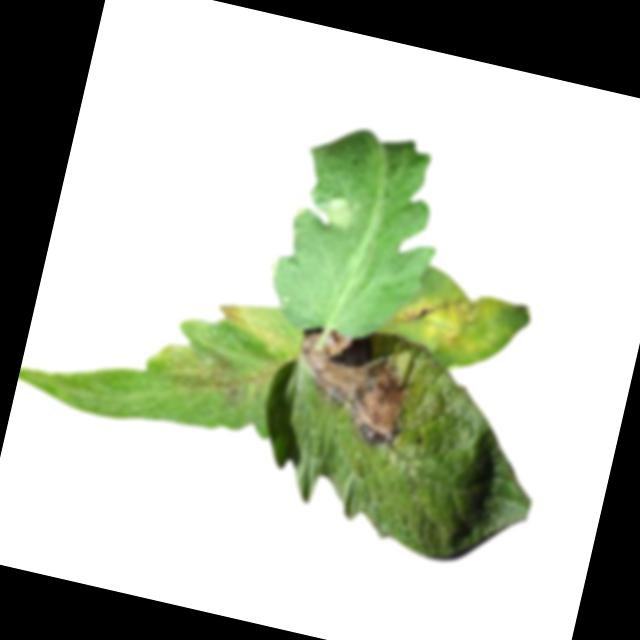Late_blight: (281, 323, 421, 451), (385, 273, 503, 360), (150, 337, 275, 417), (208, 296, 305, 363), (311, 190, 361, 231)
